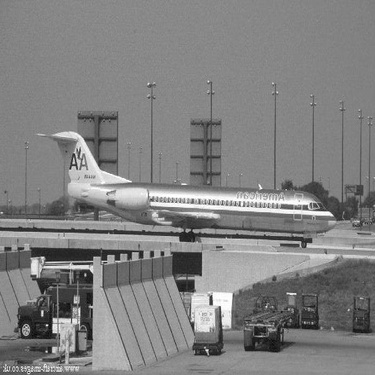airplane: (17, 108, 346, 260)
